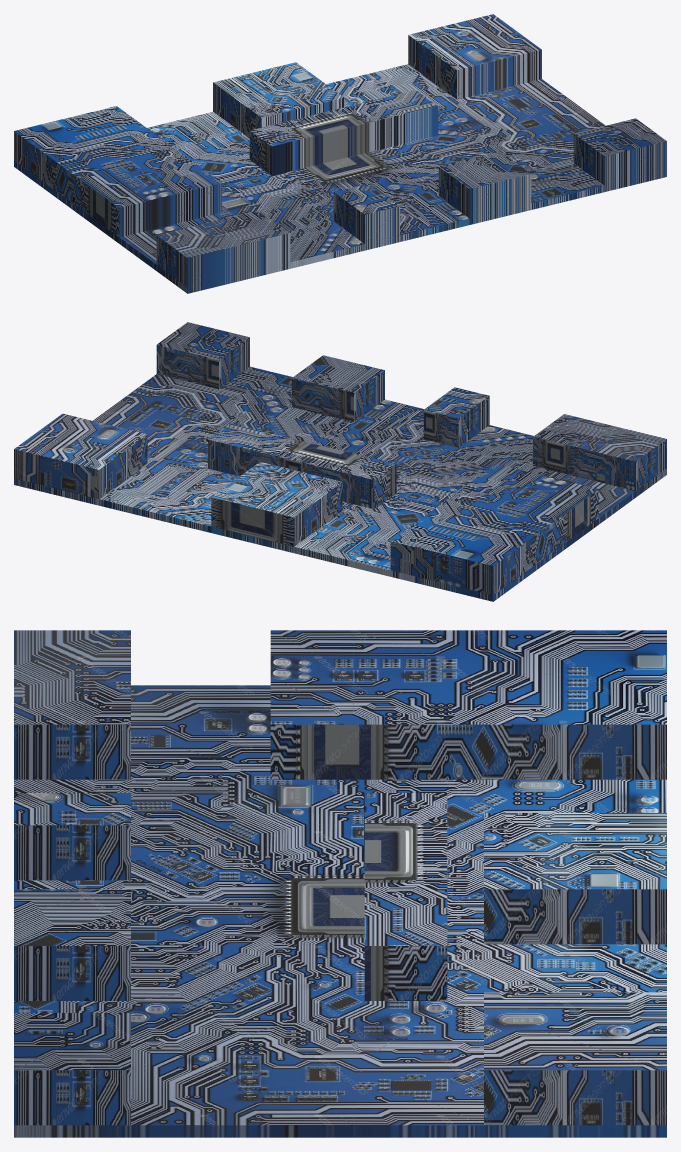
File: GearSatFloor.fbx
3 views of the same model, one above another, from view 1: azimuth 30°, elevation 25°; view 2: azimuth 150°, elevation 25°; view 3: azimuth 270°, elevation 25° (orthographic). The views are drawn at different scales.
Parts seen in each view (by area): view 1: pCube2; view 2: pCube2; view 3: pCube2.
Part boxes in pixels (x1,y1,x2,y2): pCube2: (14,14,666,293); pCube2: (14,322,666,601); pCube2: (14,630,666,1137).
Bounding box in the file's own units: 19.26 × 1.37 × 12.08.
